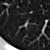node: (28, 10, 35, 15)
